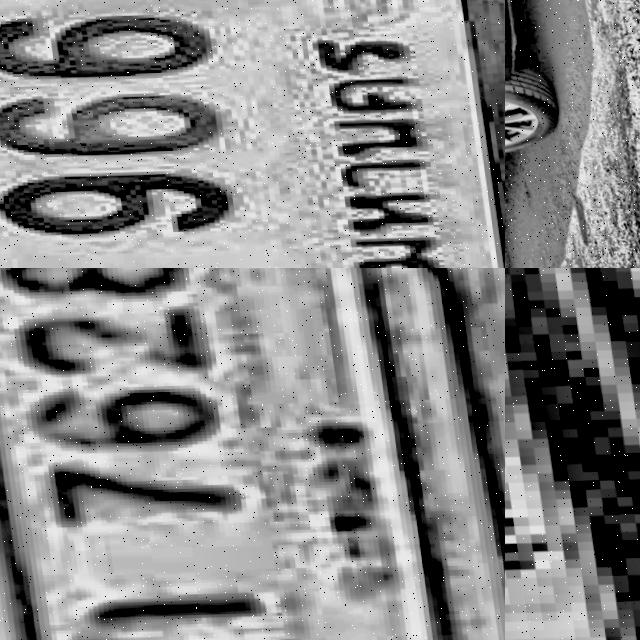license-plate: (0, 268, 505, 640), (0, 0, 505, 268), (505, 268, 640, 640)
